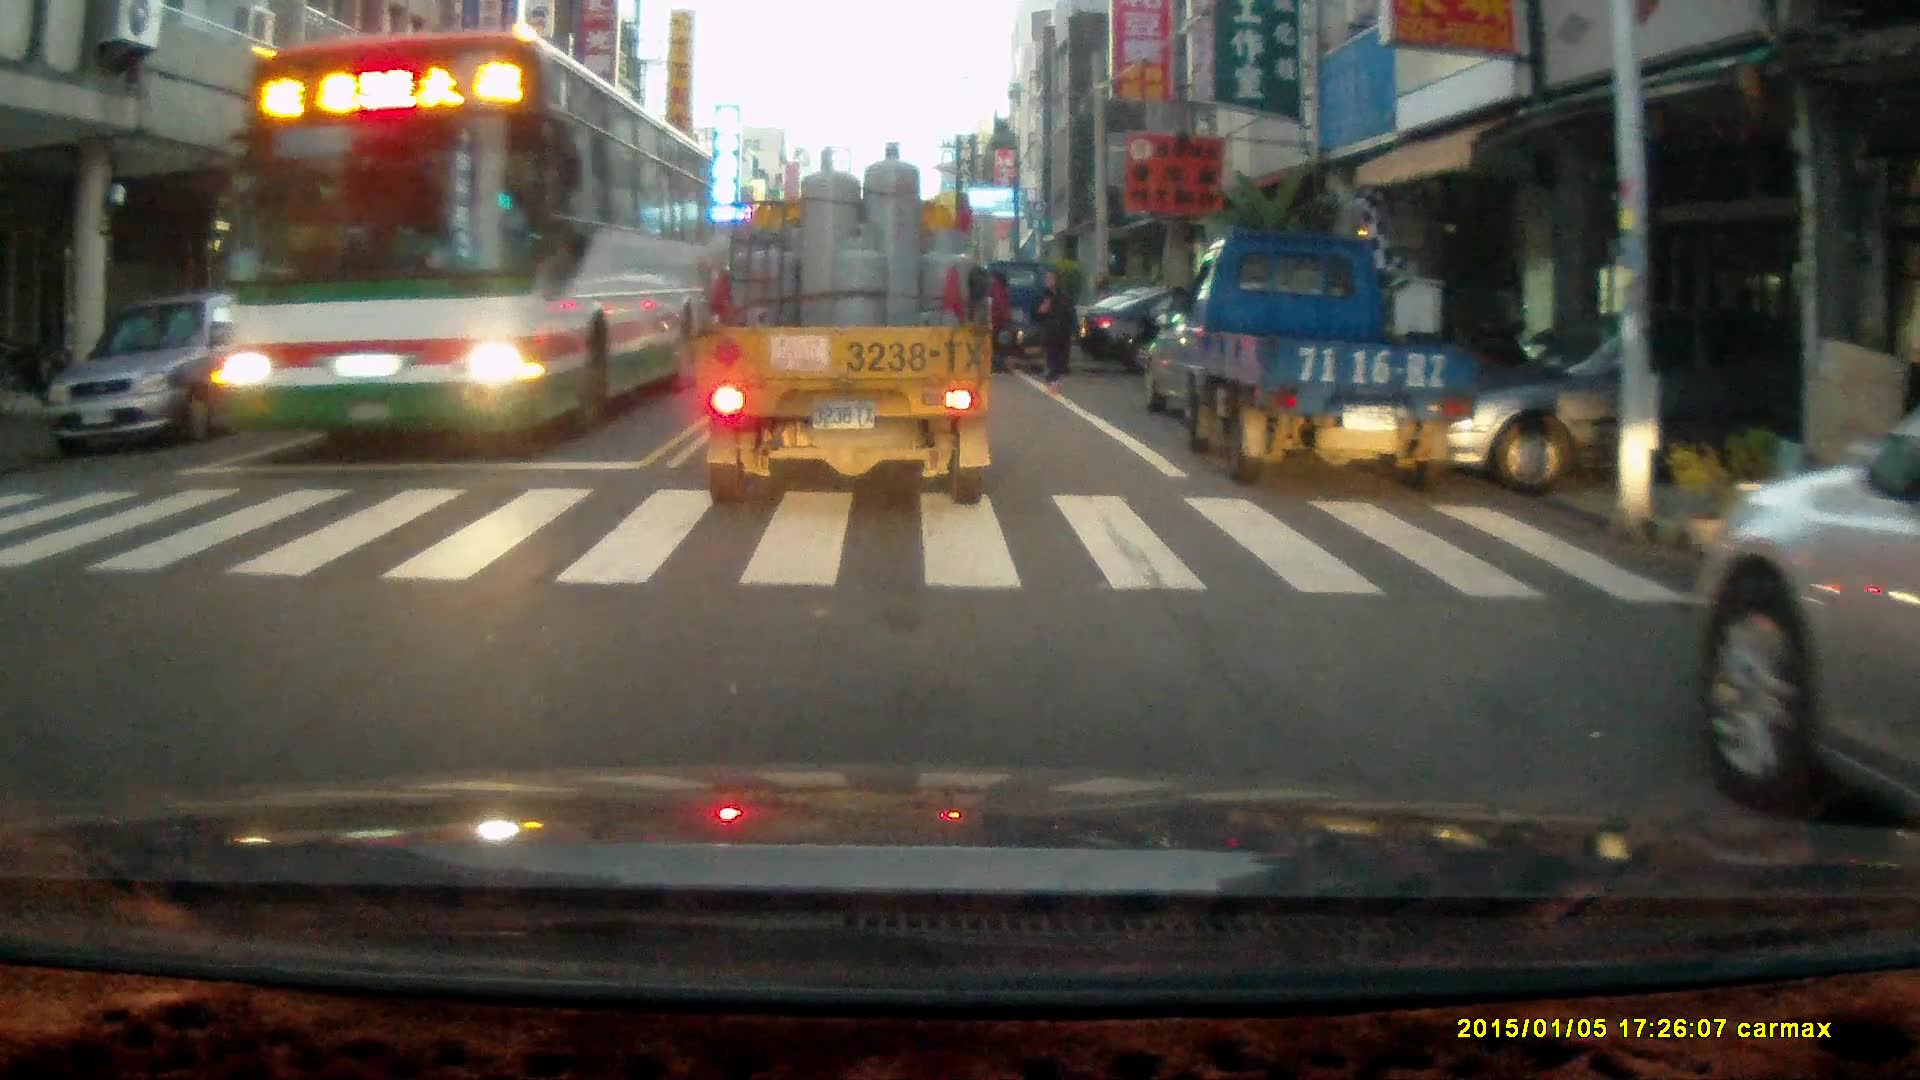pedestrian: (1027, 263, 1080, 383), (981, 263, 1014, 376)
vehicle: (211, 25, 721, 444), (692, 138, 999, 508), (1696, 391, 1920, 854), (1163, 226, 1483, 484), (1444, 342, 1809, 483), (46, 290, 283, 451), (326, 284, 511, 376), (976, 260, 1084, 376)
